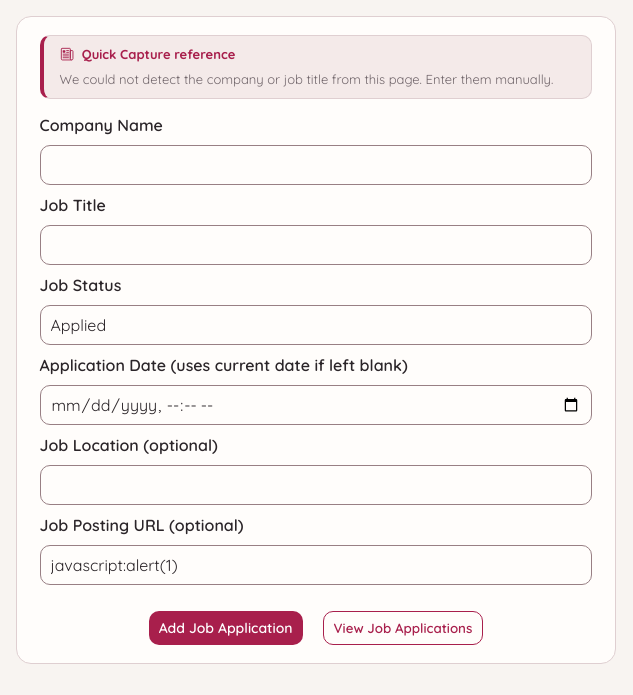
Scenario: User add application flow › uses existing submission validation for an invalid captured URL
Step 1. Type "ABC Pte Ltd" into the field labelled "Company Name" → (316, 165), box [40,145,592,185]
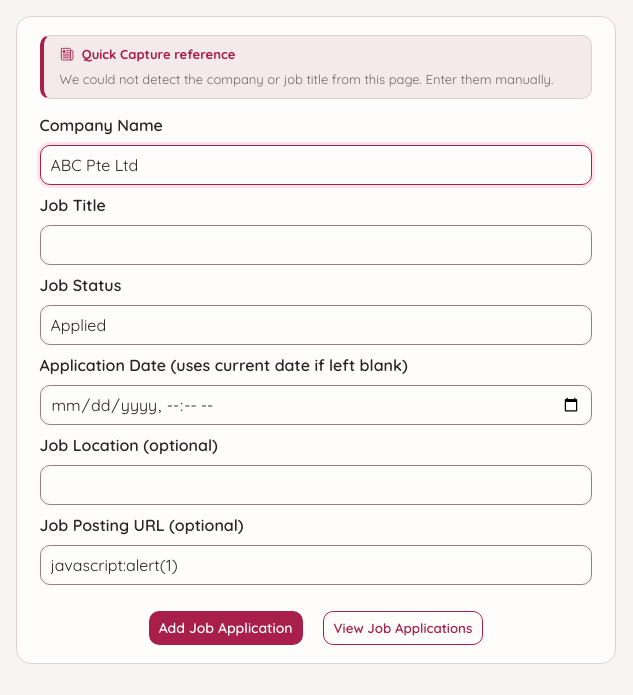
Step 2. Type "Cleaner" into the field labelled "Job Title" → (316, 245), box [40,225,592,265]
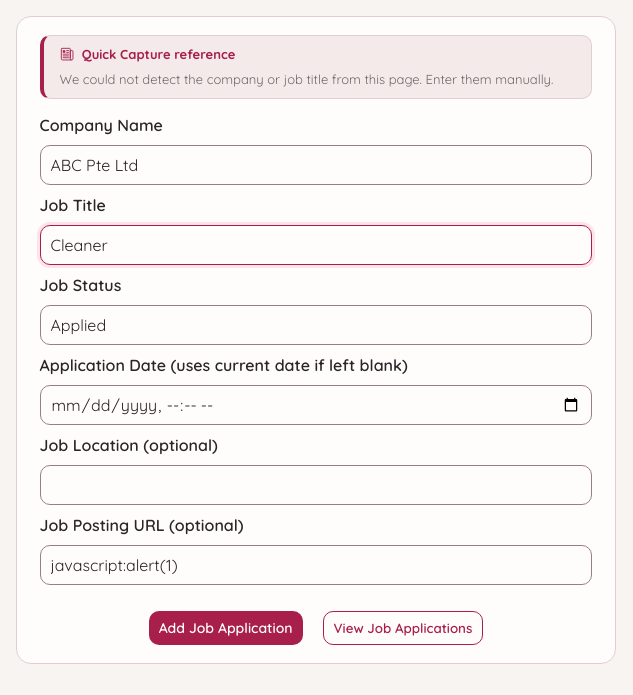
Step 3. Click the button "Add Job Application" → (226, 628), box [149,611,303,645]
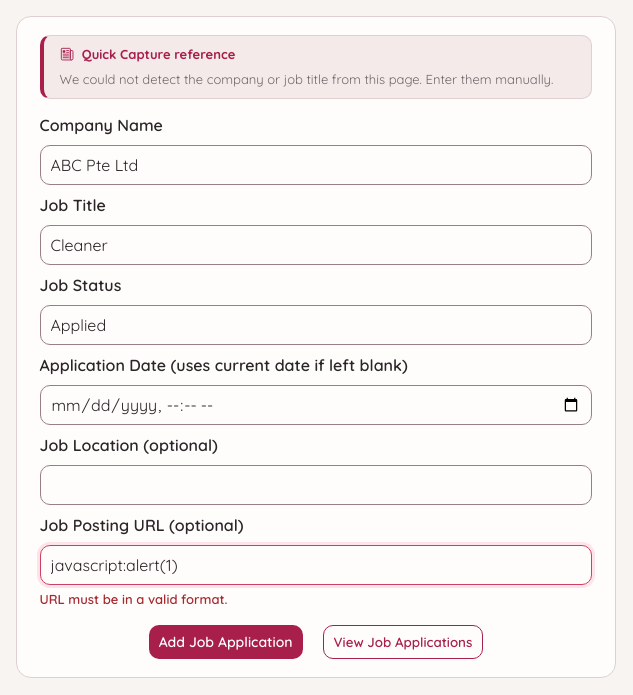
Expected: the text "URL must be in a valid format." is shown, [40,591,228,607]
